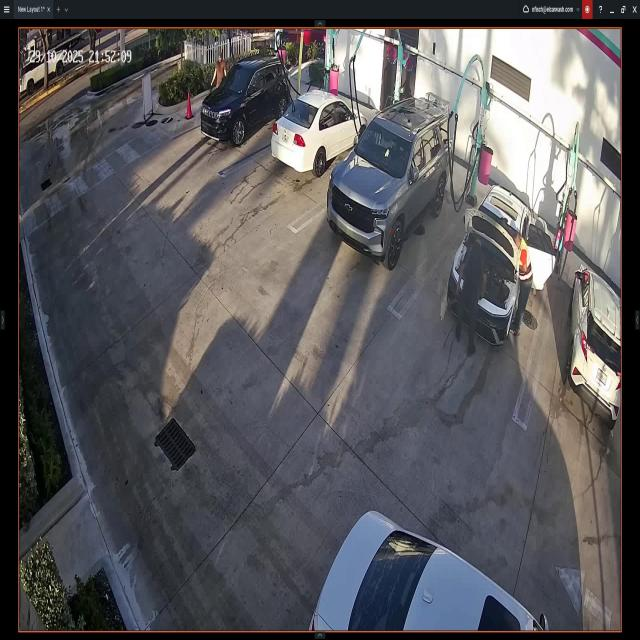Car: (311, 507, 547, 632), (332, 97, 453, 264), (450, 184, 550, 344), (568, 265, 620, 419), (274, 89, 366, 173), (200, 59, 289, 143), (286, 28, 326, 56)
